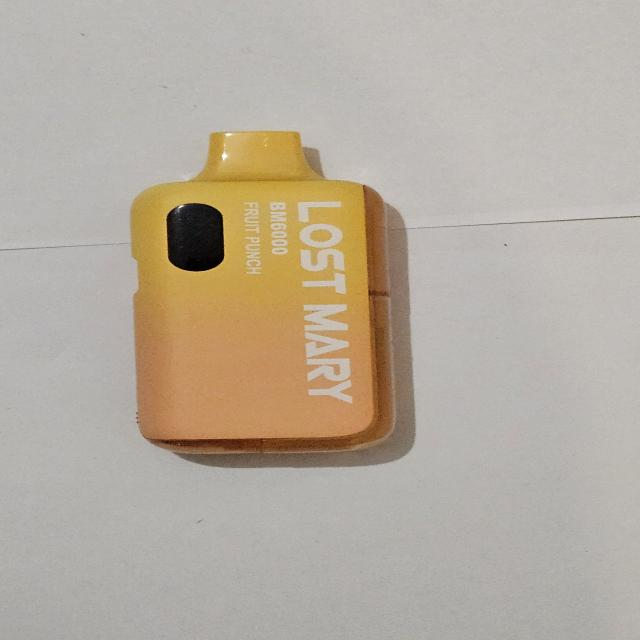Hazard: (128, 129, 397, 455)
